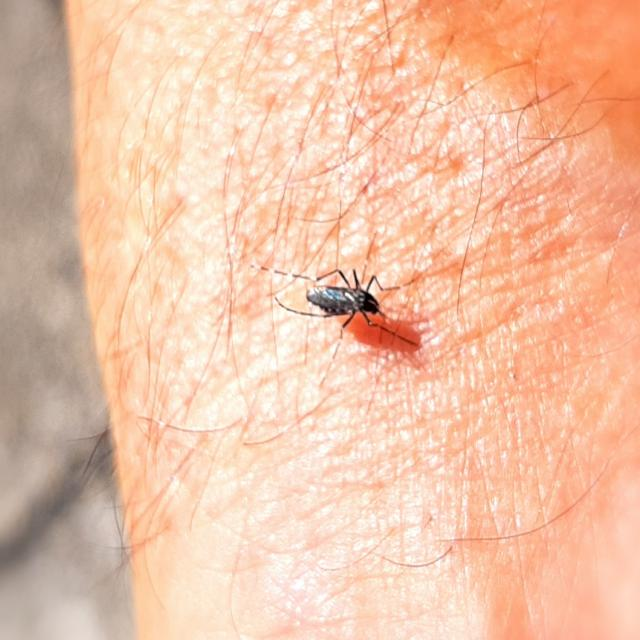albopictus: (258, 197, 432, 391)
